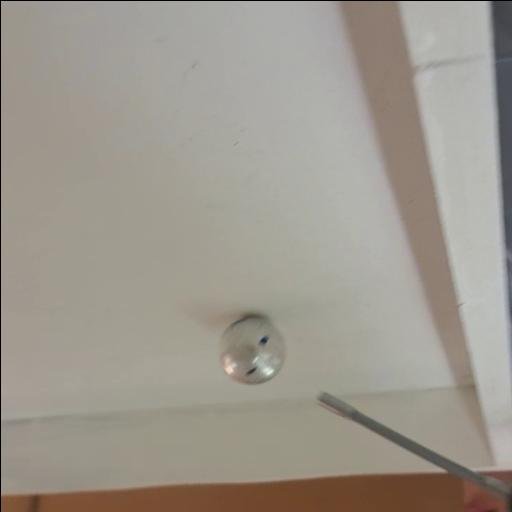alive: (218, 314, 285, 384)
